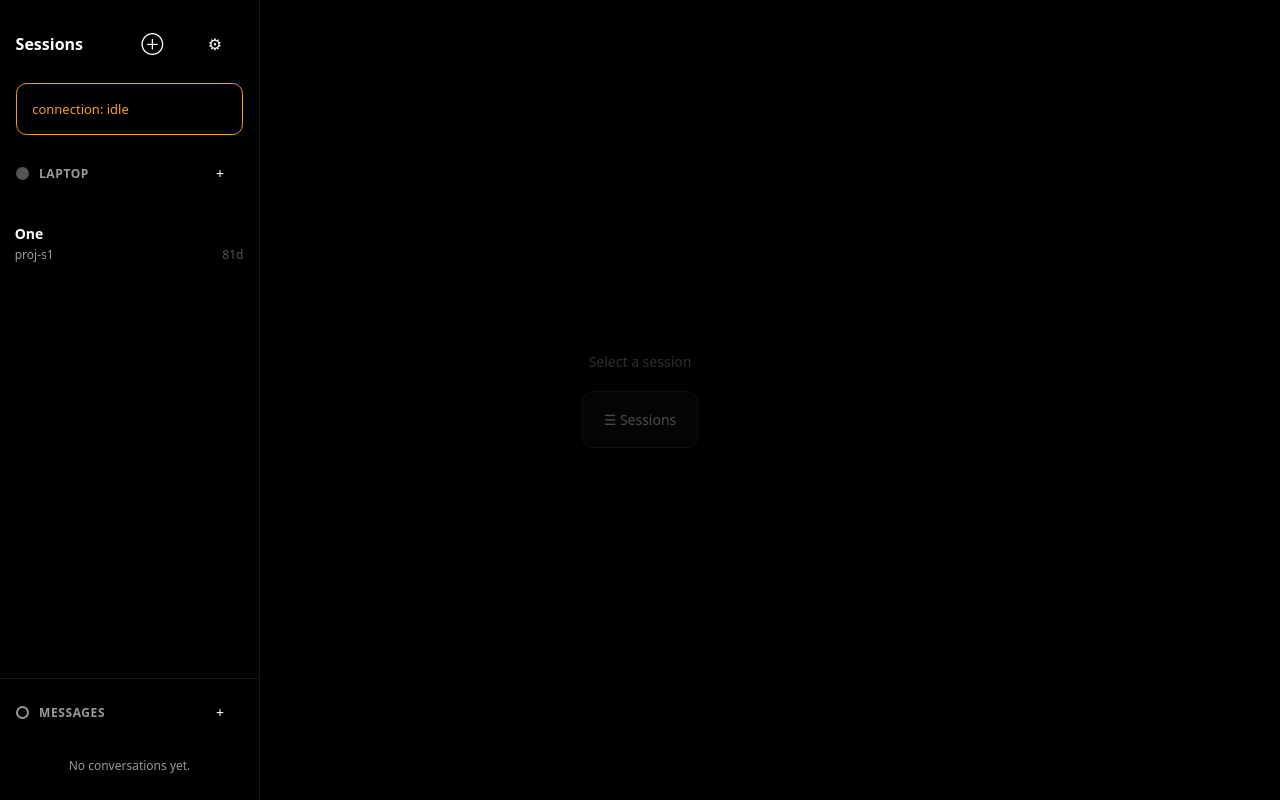
Test case: App shell › narrow: selecting a session closes the drawer and shows the session
Click the button with test id "session-card" at (130, 244), box x1=0 y1=202 x2=259 y2=285
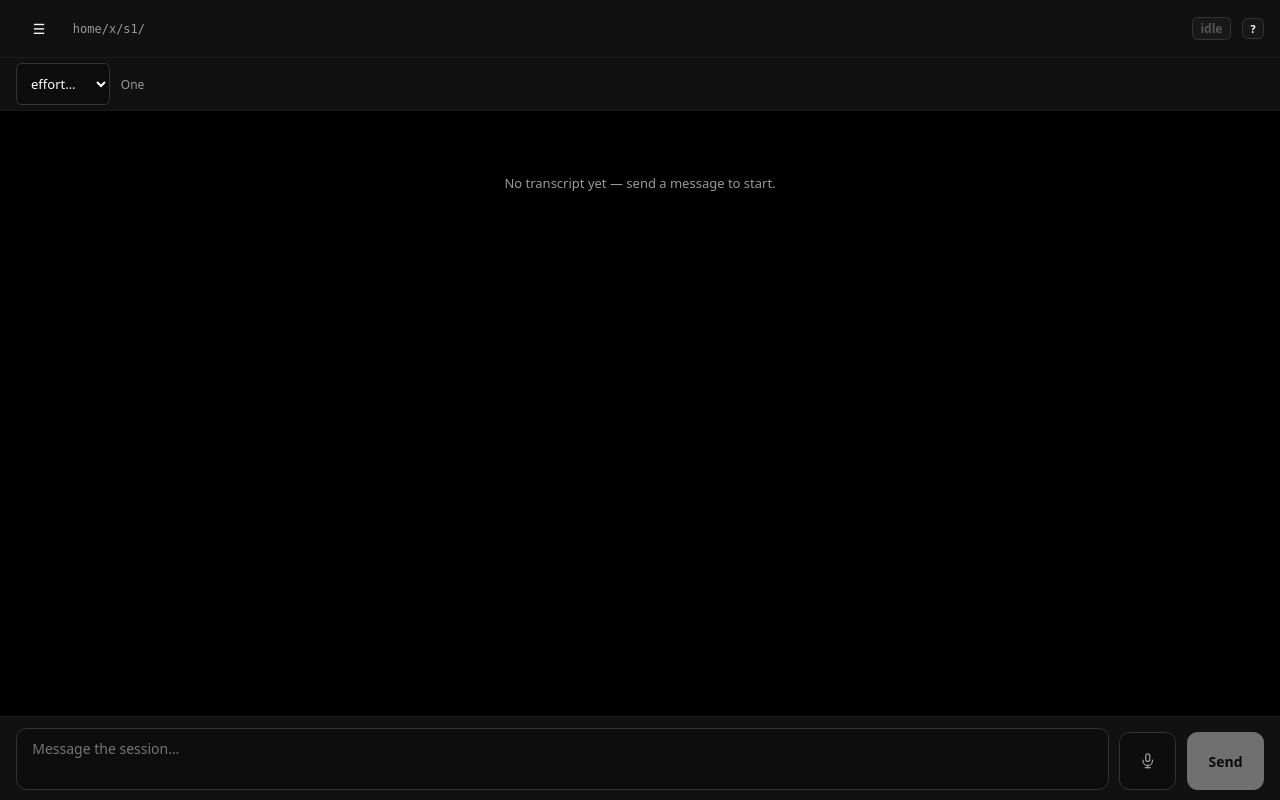
Expected: the button named "Open sessions" is shown, x1=16 y1=5 x2=62 y2=52
Now the text "/home/x/s1" is shown, box x1=73 y1=22 x2=145 y2=36
